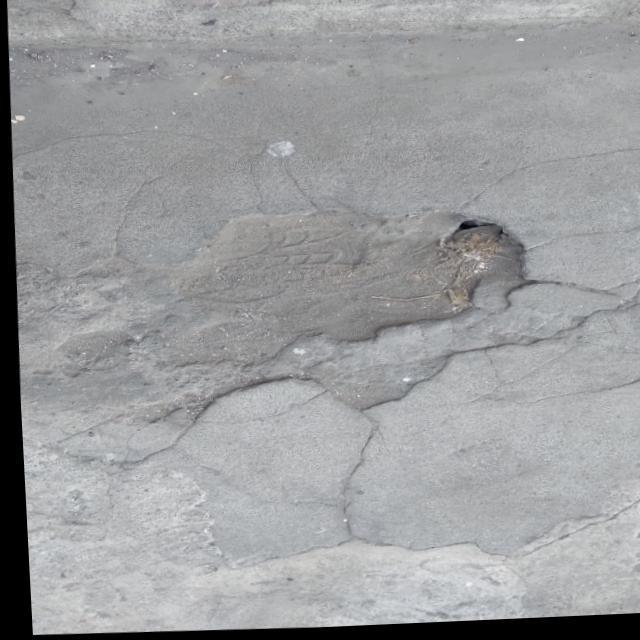hole: (175, 201, 532, 375)
